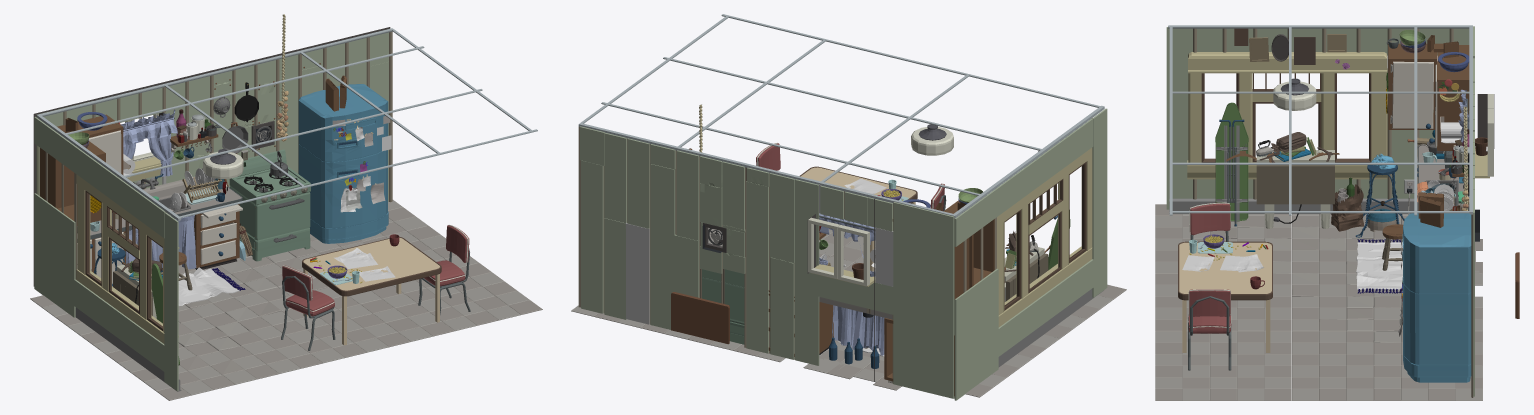
Rendered from diligent-kitchen.glb.
3 views of the same model, side by side, from view 1: azimuth 30°, elevation 25°; view 2: azimuth 150°, elevation 25°; view 3: azimuth 270°, elevation 25° (orthographic). The views are drawn at different scales.
Parts seen in each view (by area): view 1: pCube251; view 2: pCube251; view 3: pCube251.
Part boxes in pixels (left/top/right/bottom): pCube251: left=30, top=14, right=542, bottom=400; pCube251: left=571, top=14, right=1126, bottom=400; pCube251: left=1155, top=25, right=1519, bottom=400.
Size of the model in its own units: 5.85 by 3.2 by 4.49.
